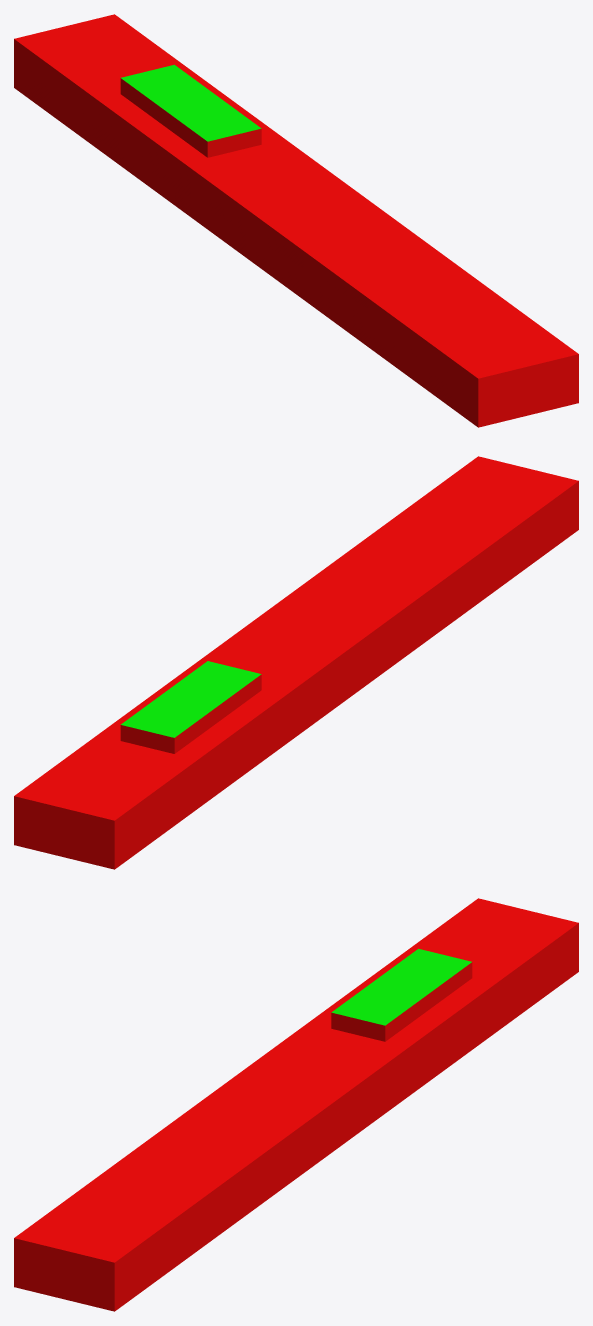
File: labeled.obj
The picture shows the model from 3 angles, top to bottom: view 1: azimuth 30°, elevation 25°; view 2: azimuth 150°, elevation 25°; view 3: azimuth 330°, elevation 25°; orthographic projection.
Size of the model in its own units: 0.0191 by 0.0118 by 0.1521.
